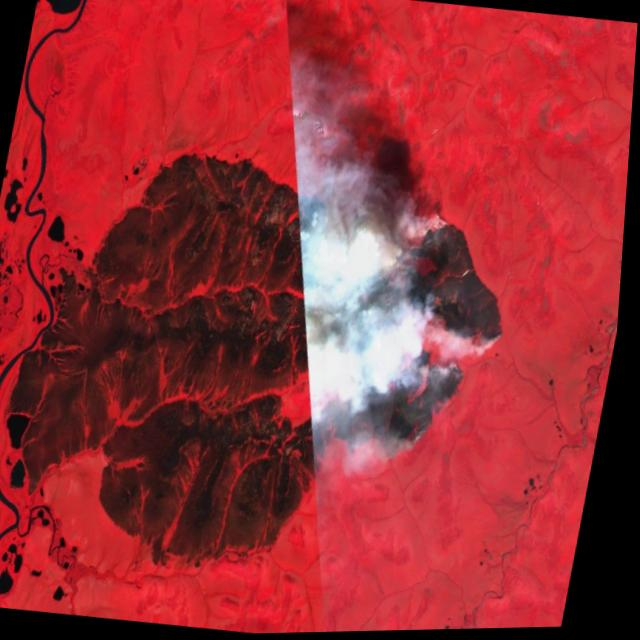fire: (344, 210, 529, 472)
